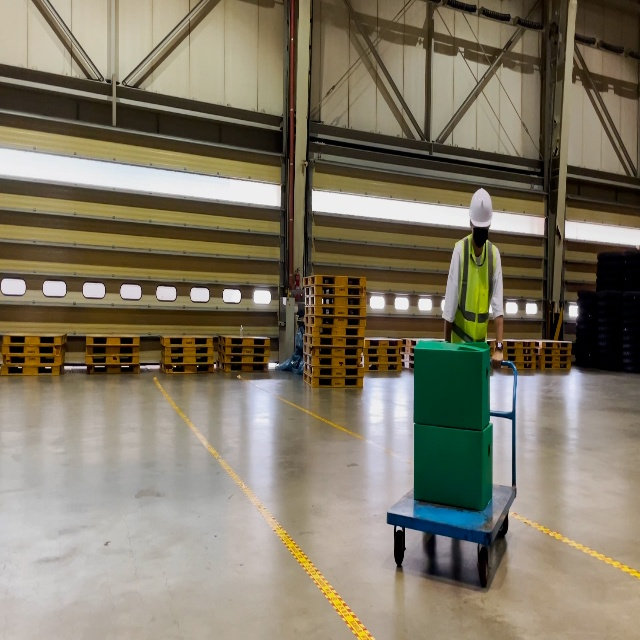Box: (414, 422, 493, 511), (413, 341, 490, 431)
Worker: (441, 187, 505, 369)
